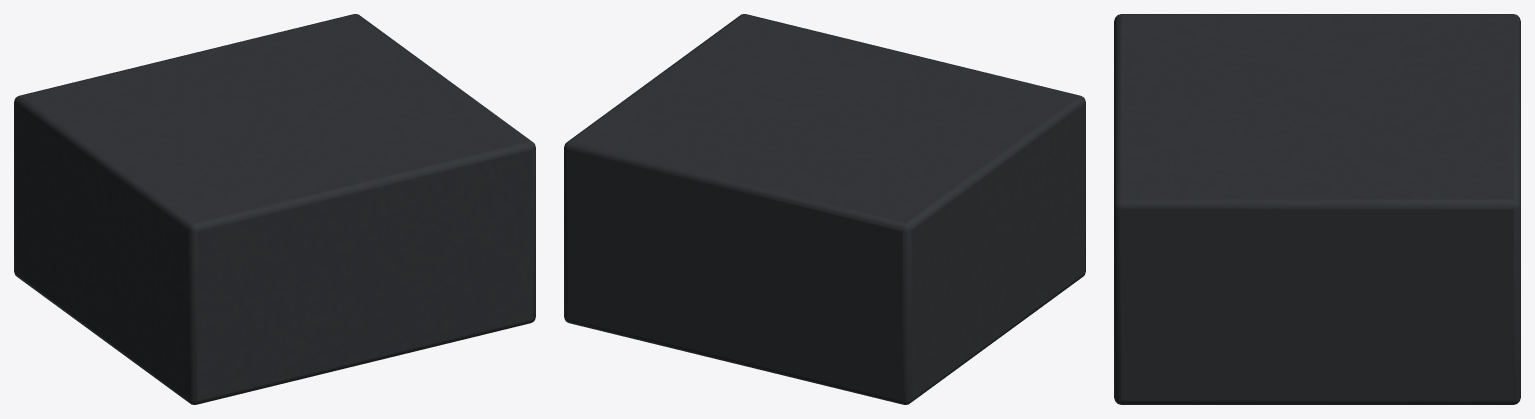
File: right_wrist_servo_black.obj
The picture shows the model from 3 angles, left to right: view 1: azimuth 30°, elevation 25°; view 2: azimuth 150°, elevation 25°; view 3: azimuth 270°, elevation 25°; orthographic projection. The views are drawn at different scales.
Visible parts, largest first — view 1: right_wrist__servo_body; view 2: right_wrist__servo_body; view 3: right_wrist__servo_body.
Boxes of the visible parts, x1,y1,x2,y2 form: right_wrist__servo_body: (14,14,535,404); right_wrist__servo_body: (564,14,1085,404); right_wrist__servo_body: (1114,14,1520,404).
Bounding box in the file's own units: 0.04 × 0.02 × 0.036.
1 material, 1 textured.
